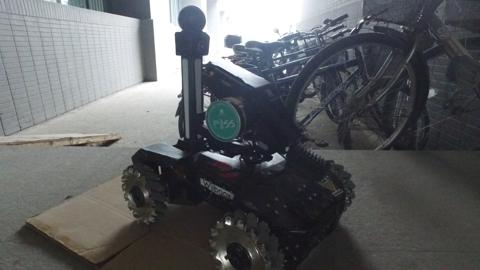bike: (257, 7, 473, 149)
chariot: (122, 7, 333, 266)
